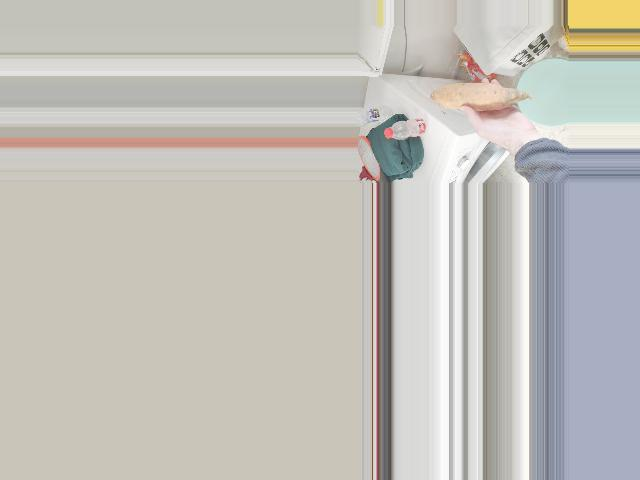sweet_potato: (443, 87, 517, 109)
